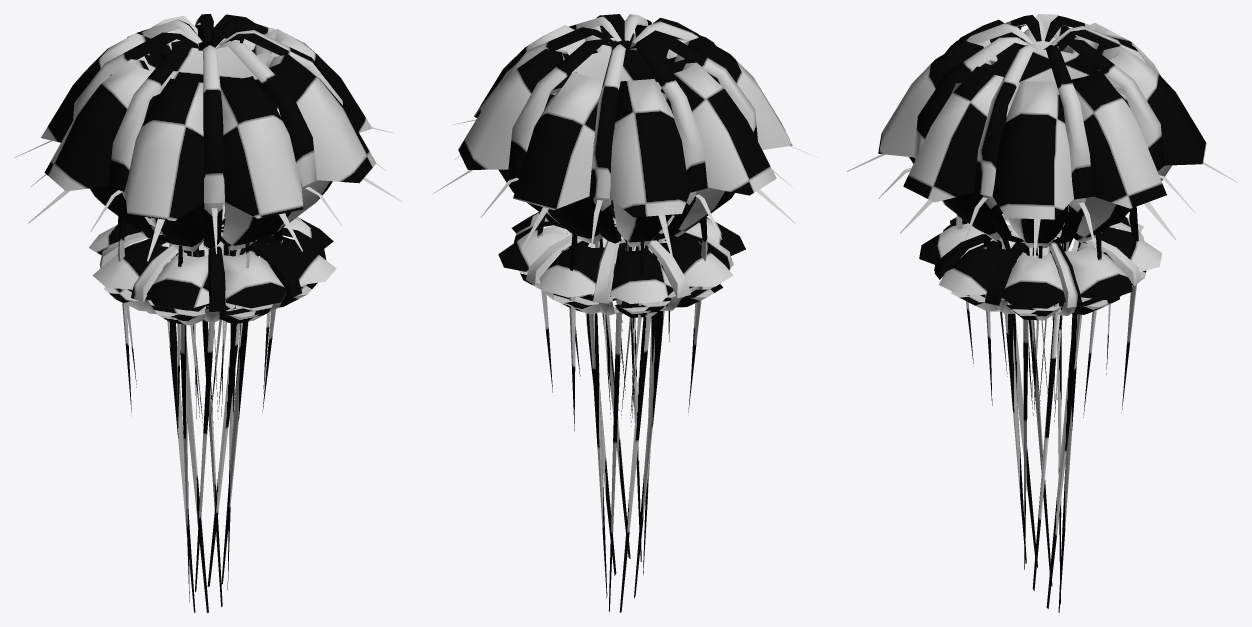
The model's file is curcubitor_boss.obj.
3 views of the same model, side by side, from view 1: azimuth 30°, elevation 25°; view 2: azimuth 150°, elevation 25°; view 3: azimuth 270°, elevation 25° (orthographic). The views are drawn at different scales.
Visible parts, largest first — view 1: curcubitor_boss; view 2: curcubitor_boss; view 3: curcubitor_boss.
Part boxes in pixels (bbox=[...]): curcubitor_boss: bbox=[14, 14, 402, 612]; curcubitor_boss: bbox=[433, 14, 817, 612]; curcubitor_boss: bbox=[847, 14, 1237, 612].
Size of the model in its own units: 168 by 264 by 162.
Materials: 1 (1 with a texture image).
